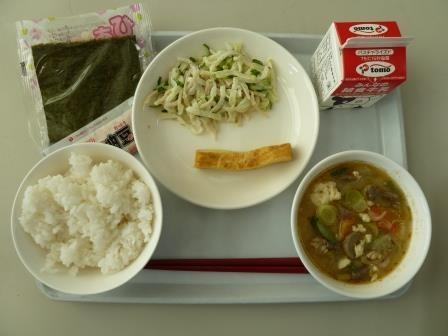Bread: (185, 136, 299, 178)
Milk: (306, 19, 407, 113)
Rice: (19, 144, 161, 290)
Soups: (296, 151, 424, 291)
salad with sauce: (141, 41, 275, 136)
